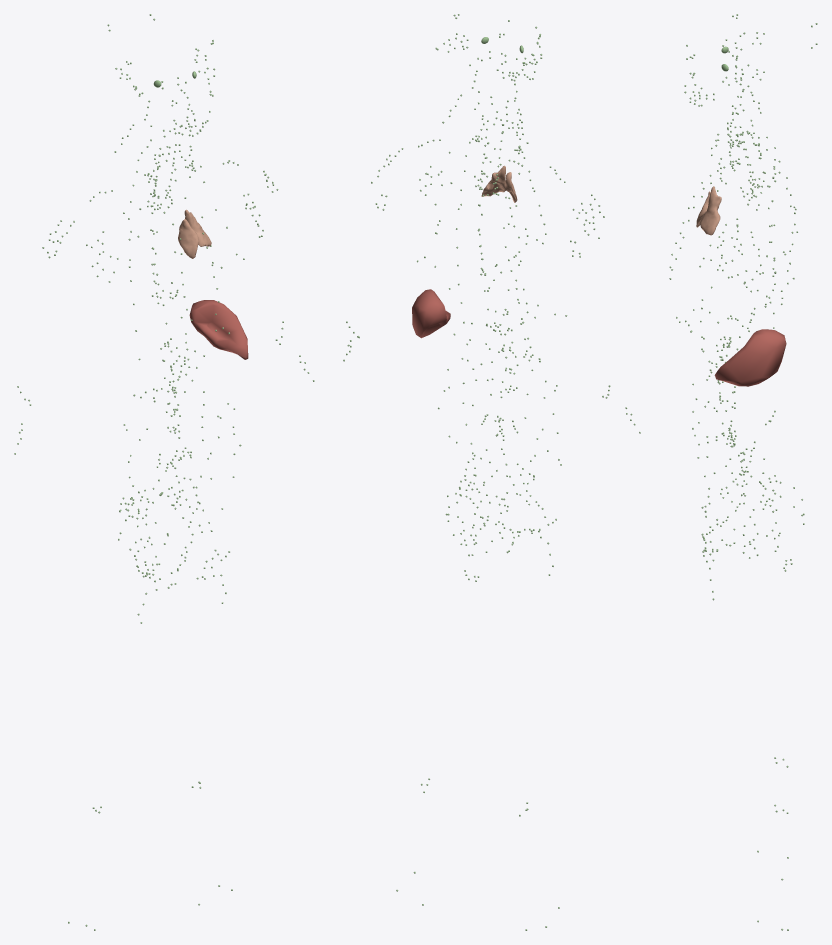
File: adult_male.lymphatic.LOD2.glb
3 renders of one model, left to right at view 1: azimuth 30°, elevation 25°; view 2: azimuth 150°, elevation 25°; view 3: azimuth 270°, elevation 25°, orthographic.
Visible parts, largest first — view 1: ADULT.MALE.LYMPHATIC.SPLEEN; view 2: ADULT.MALE.LYMPHATIC.SPLEEN; view 3: ADULT.MALE.LYMPHATIC.SPLEEN, ADULT.MALE.LYMPHATIC.LEFT_LOBE_OF_THYMUS.
Part boxes in pixels (bbox=[...]): ADULT.MALE.LYMPHATIC.SPLEEN: bbox=[189, 300, 248, 359]; ADULT.MALE.LYMPHATIC.SPLEEN: bbox=[412, 289, 450, 338]; ADULT.MALE.LYMPHATIC.SPLEEN: bbox=[714, 329, 786, 386]; ADULT.MALE.LYMPHATIC.LEFT_LOBE_OF_THYMUS: bbox=[699, 186, 721, 235].
Bounding box in the file's own units: 0.4524 × 1.28 × 0.1964.
